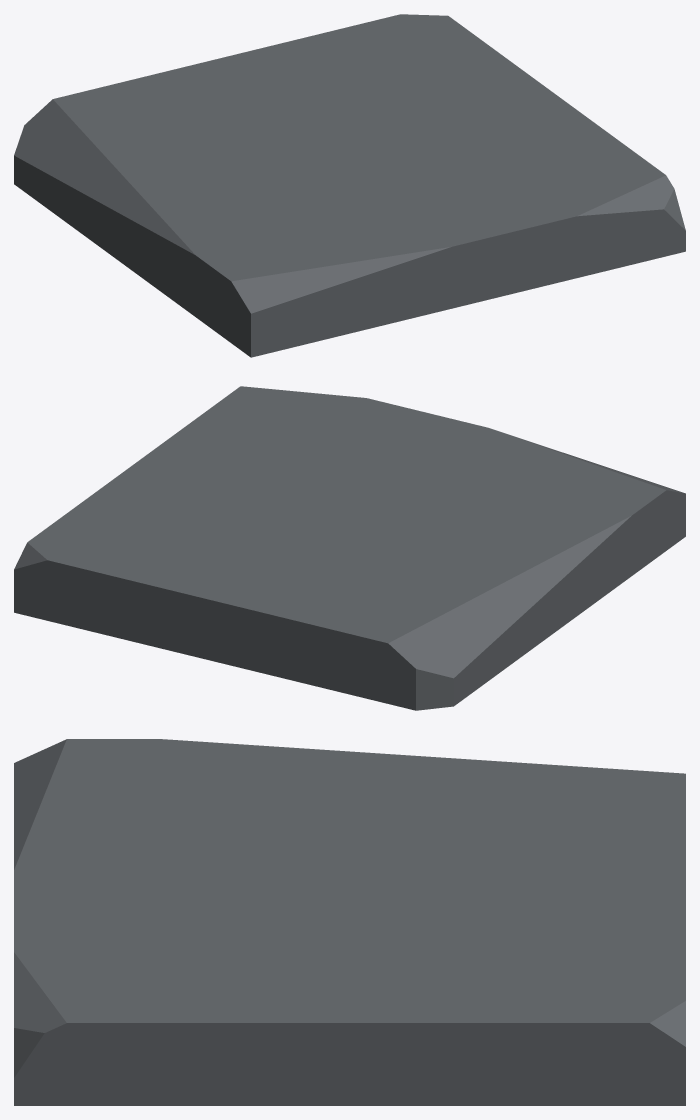
Rendered from Tile_02.fbx.
The picture shows the model from 3 angles, top to bottom: view 1: azimuth 30°, elevation 25°; view 2: azimuth 150°, elevation 25°; view 3: azimuth 270°, elevation 25°; orthographic projection. The views are drawn at different scales.
Parts seen in each view (by area): view 1: Tile_02_LOD0; view 2: Tile_02_LOD0; view 3: Tile_02_LOD0.
Part boxes in pixels (x1,y1,x2,y2): Tile_02_LOD0: [14, 14, 685, 357]; Tile_02_LOD0: [14, 386, 685, 710]; Tile_02_LOD0: [14, 739, 685, 1105].
Size of what is drawn, in the model's own units: 47.14 by 6.41 by 47.14.
